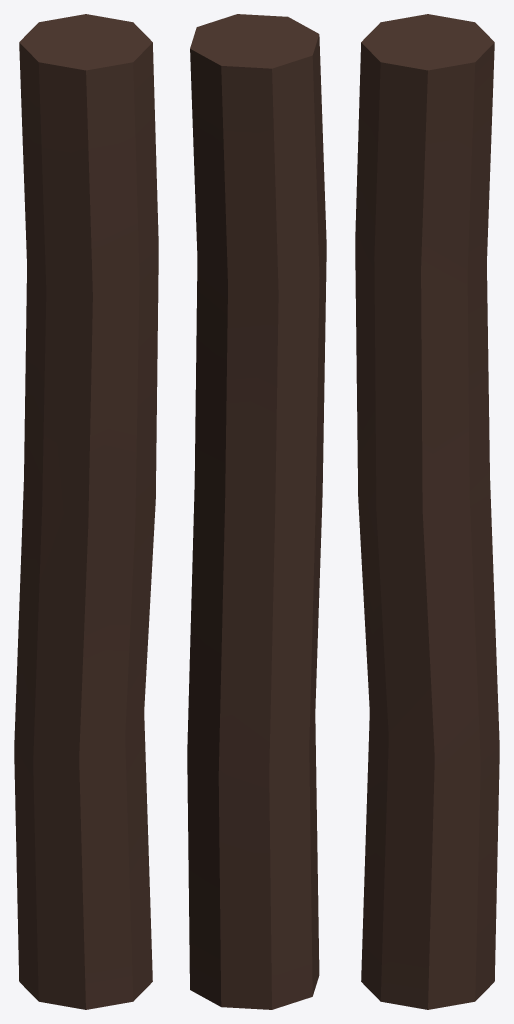
The model's file is Log.fbx.
3 renders of one model, left to right at view 1: azimuth 90°, elevation 25°; view 2: azimuth 150°, elevation 25°; view 3: azimuth 270°, elevation 25°, orthographic.
Visible parts, largest first — view 1: Branch; view 2: Branch; view 3: Branch.
Part boxes in pixels (x1,y1,x2,y2): Branch: (14, 14, 158, 1009); Branch: (187, 14, 326, 1009); Branch: (355, 14, 499, 1009).
Bounding box in the file's own units: 0.7941 × 5.99 × 0.8354.
